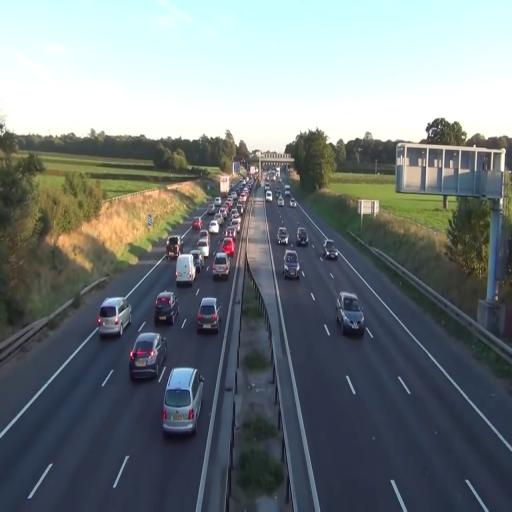vehicle: (162, 366, 204, 436), (128, 331, 168, 383), (97, 296, 132, 338), (336, 291, 365, 335), (97, 299, 122, 340), (153, 290, 178, 326), (196, 297, 220, 334), (176, 254, 196, 286), (282, 250, 301, 278), (212, 252, 230, 280), (324, 244, 338, 262), (296, 227, 308, 247), (277, 226, 289, 245)
